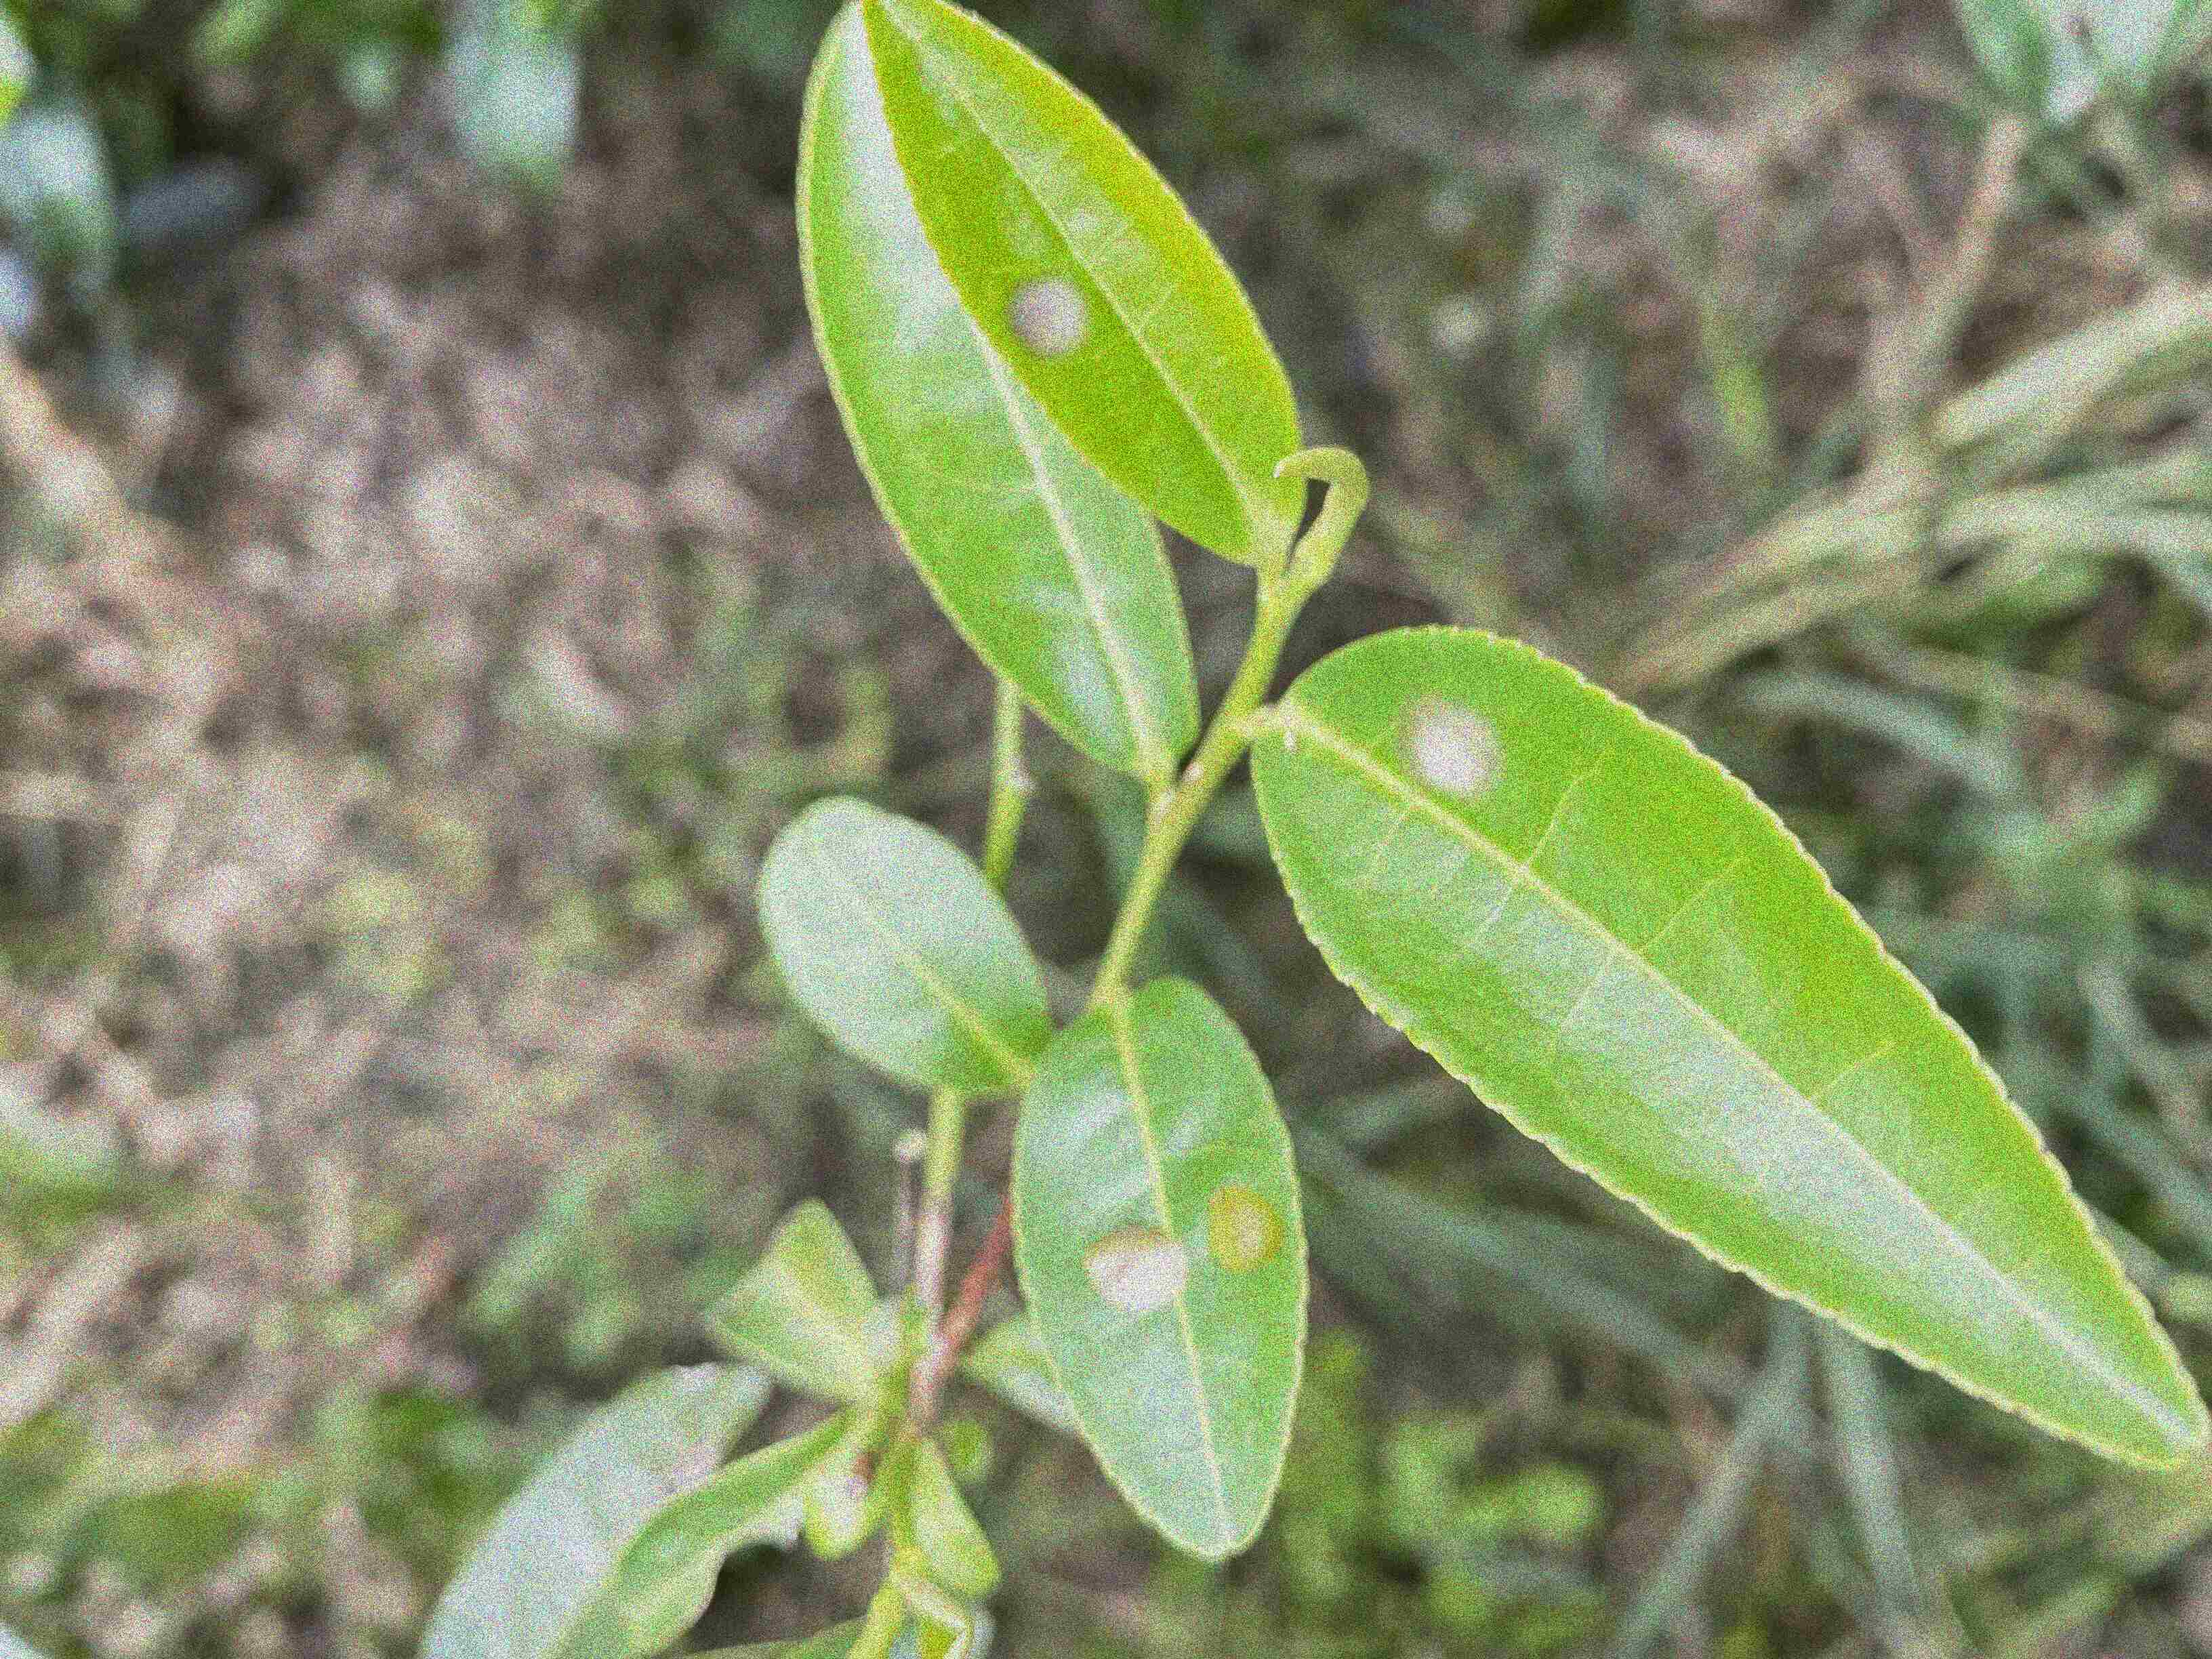chabing_high: (1012, 976, 1308, 1556)
chabing_low: (1244, 622, 2205, 1467), (866, 3, 1308, 568)
chihuo_high: (704, 1201, 885, 1398)
